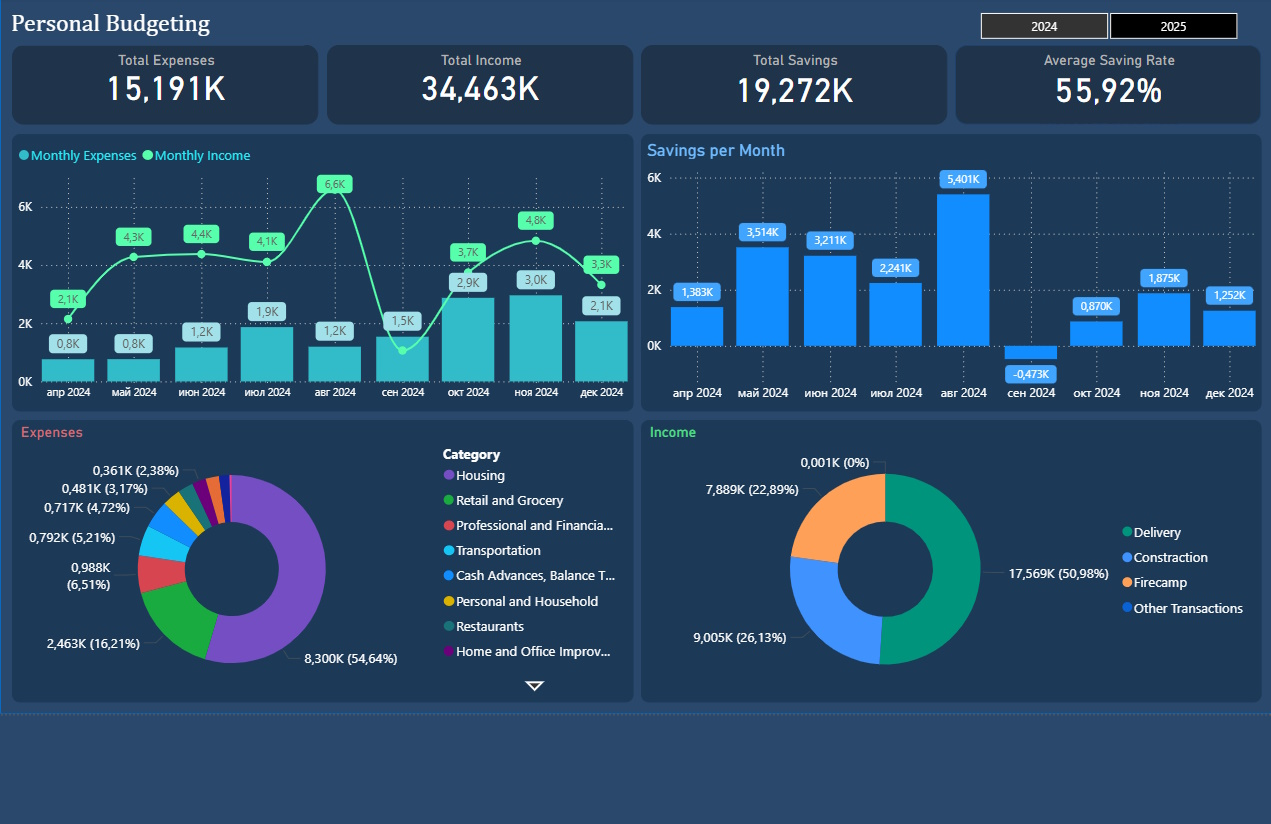

The dashboard page shown, as its layout file describes it:
{"tool":"powerbi","page":{"name":"Page 1","canvas":[1280,720],"ordinal":0},"visuals":[{"type":"shape","box":[0,1,1280,718.9],"z":0},{"type":"card","title":"Total Expenses","fields":{"Values":["Canada.Monthly Expenses"]},"box":[11.7,47.6,308.3,79.8],"z":1000},{"type":"card","title":"Total Income","fields":{"Values":["Canada.Monthly Income"]},"box":[328.8,47.6,308.3,79.8],"z":2000},{"type":"card","title":"Total Savings","fields":{"Values":["Canada.Monthly Savings"]},"box":[644.9,47.6,308.3,79.8],"z":3000},{"type":"card","title":"Average Saving Rate","fields":{"Values":["Canada.Average Saving Rate"]},"box":[960,47.6,308.3,79.8],"z":4000},{"type":"textbox","box":[11.2,8.2,295,39.8],"z":5000},{"type":"lineClusteredColumnComboChart","title":"Expenses vs Income","fields":{"Y":["Canada.Monthly Expenses"],"Category":["Canada.MonthStart"],"Y2":["Canada.Monthly Income"]},"box":[11.6,136.7,625.5,279.3],"z":6000},{"type":"donutChart","title":"Expenses","fields":{"Category":["Canada.Category"],"Y":["Canada.Monthly Expenses"]},"box":[11.6,424.7,625.5,284.1],"z":7000},{"type":"donutChart","title":"Income","fields":{"Category":["Canada.Category"],"Y":["Canada.Monthly Income"]},"box":[644.8,424.7,623.5,284.1],"z":8000},{"type":"clusteredColumnChart","title":"Savings per Month","fields":{"Y":["Canada.Monthly Savings"],"Category":["Canada.MonthStart"]},"box":[644.8,136.7,623.5,279.3],"z":9000},{"type":"slicer","fields":{"Values":["Canada.Year"]},"box":[960.3,8,307.7,39.2],"z":10001}]}

Visuals, with their boxes on the page's 1280x720 design canvas (x1, y1, x2, y2). These are canvas units, not pixel positions in the 1271x824 screenshot, which may show the page scaled, cropped or inside an application window:
shape: BBox(0, 1, 1280, 720)
"Total Expenses" card: BBox(12, 48, 320, 127)
"Total Income" card: BBox(329, 48, 637, 127)
"Total Savings" card: BBox(645, 48, 953, 127)
"Average Saving Rate" card: BBox(960, 48, 1268, 127)
textbox: BBox(11, 8, 306, 48)
"Expenses vs Income" lineClusteredColumnComboChart: BBox(12, 137, 637, 416)
"Expenses" donutChart: BBox(12, 425, 637, 709)
"Income" donutChart: BBox(645, 425, 1268, 709)
"Savings per Month" clusteredColumnChart: BBox(645, 137, 1268, 416)
slicer - Canada.Year: BBox(960, 8, 1268, 47)
